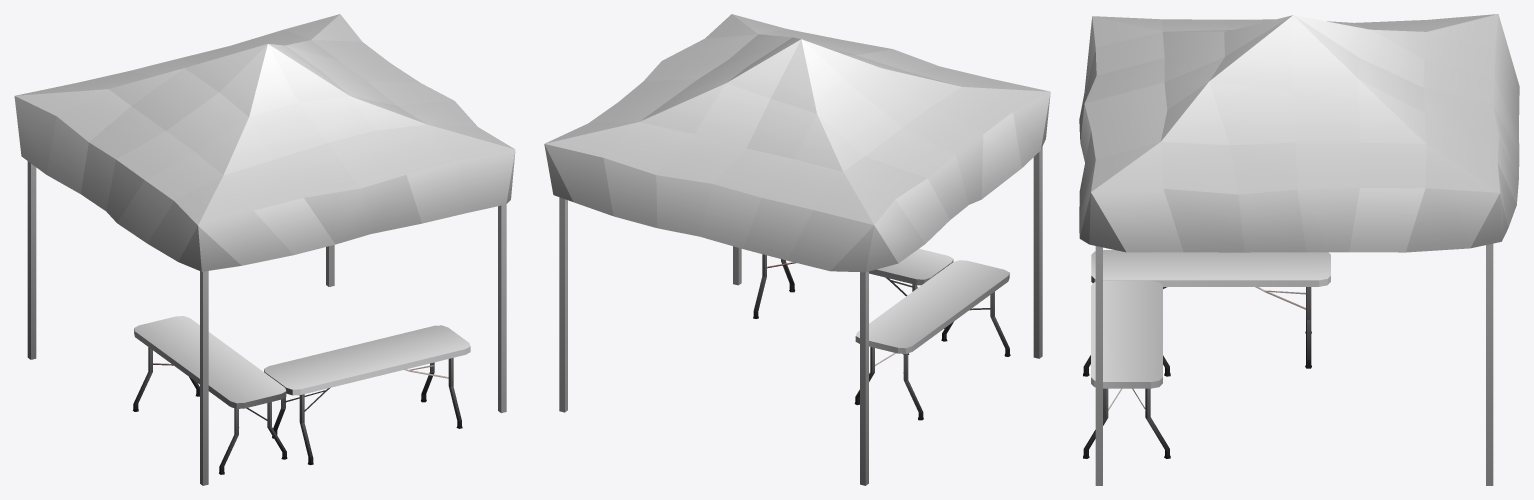
The model's file is SM_Market_Stall_V_Roof.fbx.
The picture shows the model from 3 angles, left to right: view 1: azimuth 30°, elevation 25°; view 2: azimuth 150°, elevation 25°; view 3: azimuth 270°, elevation 25°; orthographic projection. The views are drawn at different scales.
Visible parts, largest first — view 1: Market_Triangular_Fabric_Roof_White_Mash, Counter_Table, Counter_Table.003, Market_Steel_Frame_Mash; view 2: Market_Triangular_Fabric_Roof_White_Mash, Counter_Table.003, Market_Steel_Frame_Mash, Counter_Table; view 3: Market_Triangular_Fabric_Roof_White_Mash, Counter_Table.003, Counter_Table, Market_Steel_Frame_Mash.
Part boxes in pixels (x1,y1,x2,y2): Market_Triangular_Fabric_Roof_White_Mash: (14,14,515,271); Counter_Table: (264,325,470,465); Counter_Table.003: (133,316,287,474); Market_Steel_Frame_Mash: (27,161,506,485); Market_Triangular_Fabric_Roof_White_Mash: (544,14,1050,272); Counter_Table.003: (854,260,1010,420); Market_Steel_Frame_Mash: (559,147,1042,485); Counter_Table: (753,248,953,354); Market_Triangular_Fabric_Roof_White_Mash: (1079,14,1519,252); Counter_Table.003: (1091,250,1330,368); Counter_Table: (1083,280,1170,458); Market_Steel_Frame_Mash: (1095,243,1493,485).
Size of the model in its own units: 3.76 by 3.56 by 3.67.
